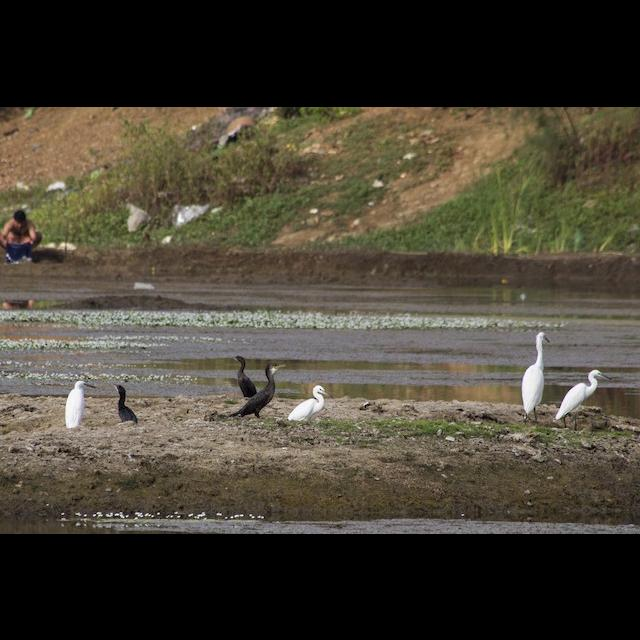cormorant: (249, 359, 287, 415), (108, 381, 144, 425)
egret: (556, 366, 616, 428), (518, 324, 550, 426), (292, 381, 338, 425), (62, 377, 100, 429)
